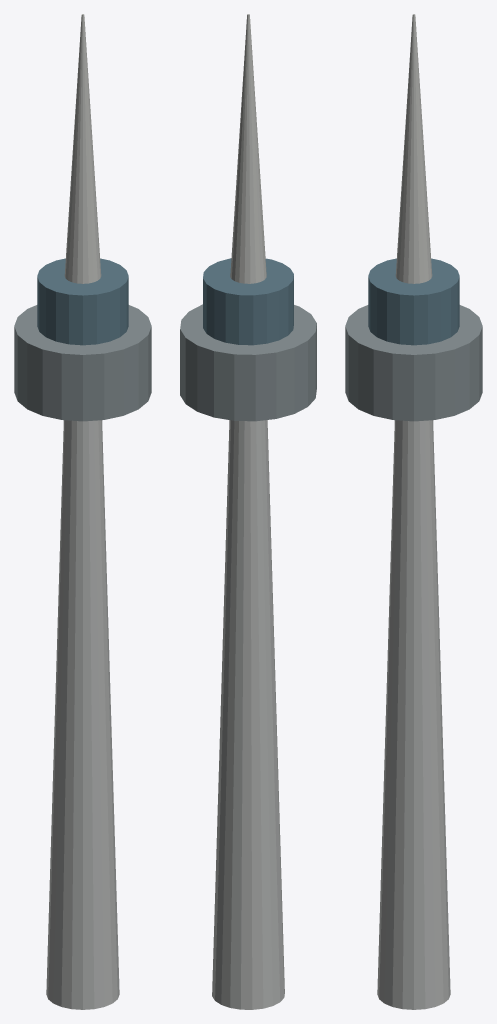
The picture shows the model from 3 angles, left to right: view 1: azimuth 90°, elevation 25°; view 2: azimuth 150°, elevation 25°; view 3: azimuth 270°, elevation 25°; orthographic projection.
Parts seen in each view (by area): view 1: Visual; view 2: Visual; view 3: Visual.
Boxes of the visible parts, <box> form: Visual: <box>14,14,151,1009</box>; Visual: <box>180,14,316,1009</box>; Visual: <box>345,14,482,1009</box>.
Size of the model in its own units: 30 by 236 by 30.
